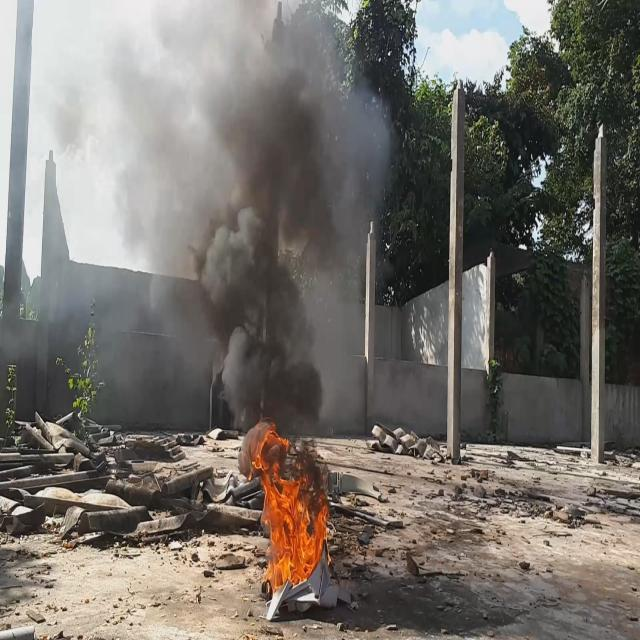Fire: (245, 420, 333, 594)
Smoke: (94, 4, 394, 434)
